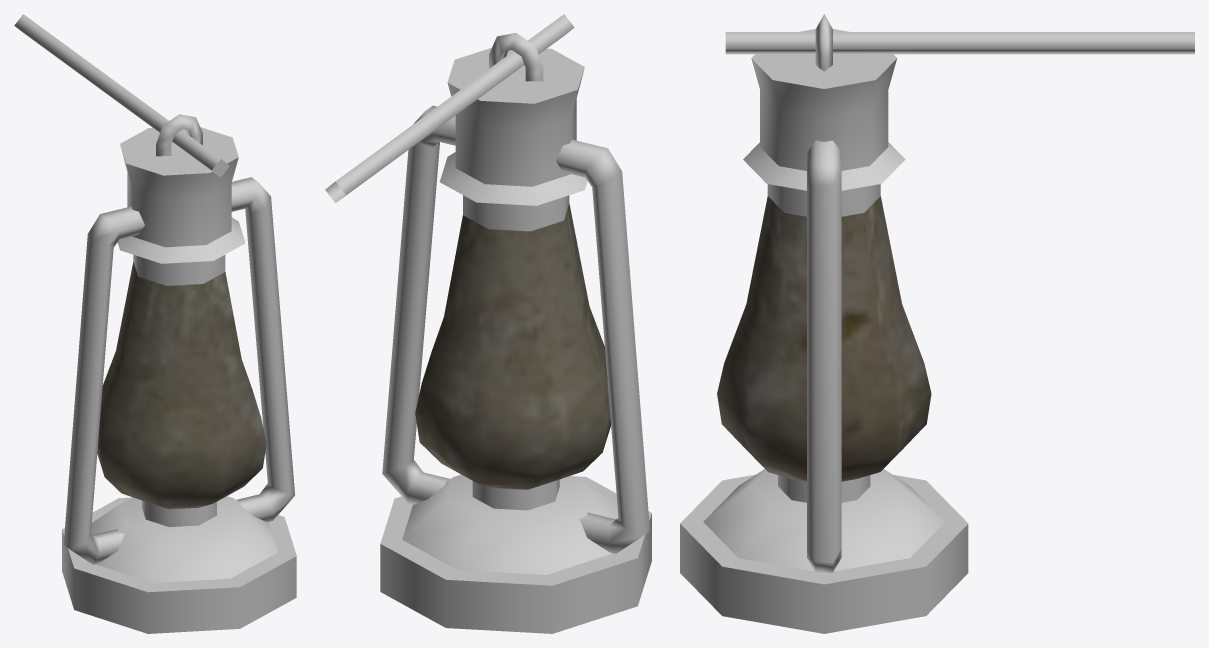
Rendered from Lamp1.fbx.
3 renders of one model, left to right at view 1: azimuth 30°, elevation 25°; view 2: azimuth 150°, elevation 25°; view 3: azimuth 270°, elevation 25°, orthographic. The views are drawn at different scales.
Parts seen in each view (by area): view 1: polySurface335; view 2: polySurface335; view 3: polySurface335.
Boxes of the visible parts, bbox=[...] form: polySurface335: bbox=[14, 14, 296, 633]; polySurface335: bbox=[325, 14, 651, 633]; polySurface335: bbox=[680, 14, 1194, 633].
Bounding box in the file's own units: 0.3706 × 0.7427 × 0.6211.
